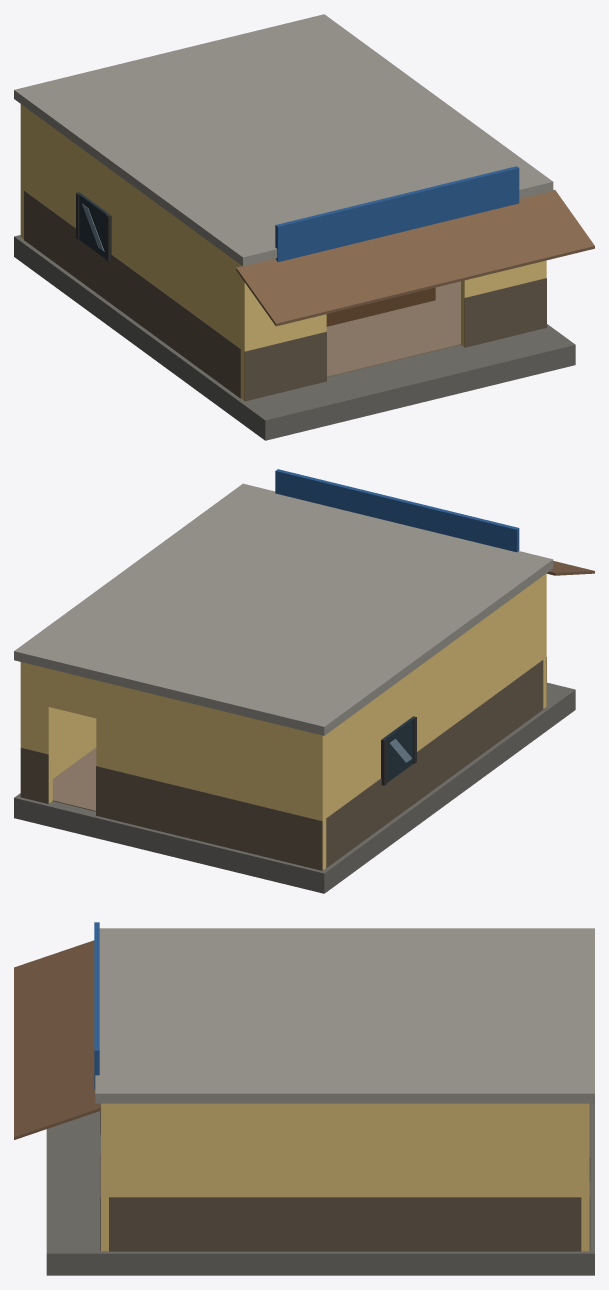
The model's file is venda_bar_b.glb.
3 views of the same model, one above another, from view 1: azimuth 30°, elevation 25°; view 2: azimuth 150°, elevation 25°; view 3: azimuth 270°, elevation 25° (orthographic). The views are drawn at different scales.
Visible parts, largest first — view 1: venda_bar_b; view 2: venda_bar_b; view 3: venda_bar_b.
Boxes of the visible parts, bbox=[...] form: venda_bar_b: bbox=[14, 14, 594, 440]; venda_bar_b: bbox=[14, 469, 594, 893]; venda_bar_b: bbox=[14, 922, 594, 1275].
Size of the model in its own units: 7.4 by 4.2 by 10.7.
